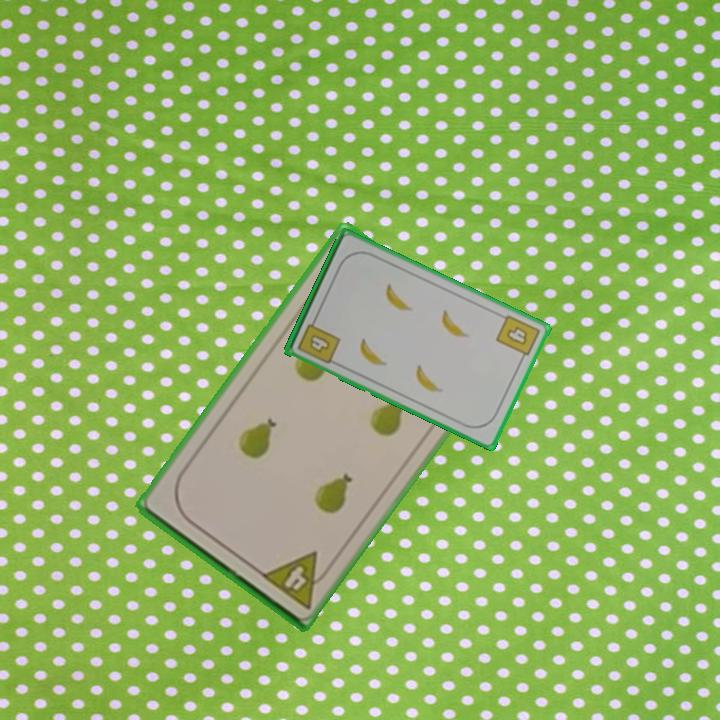4b: (492, 311, 543, 365), (294, 314, 343, 367)
4p: (257, 547, 335, 612)
